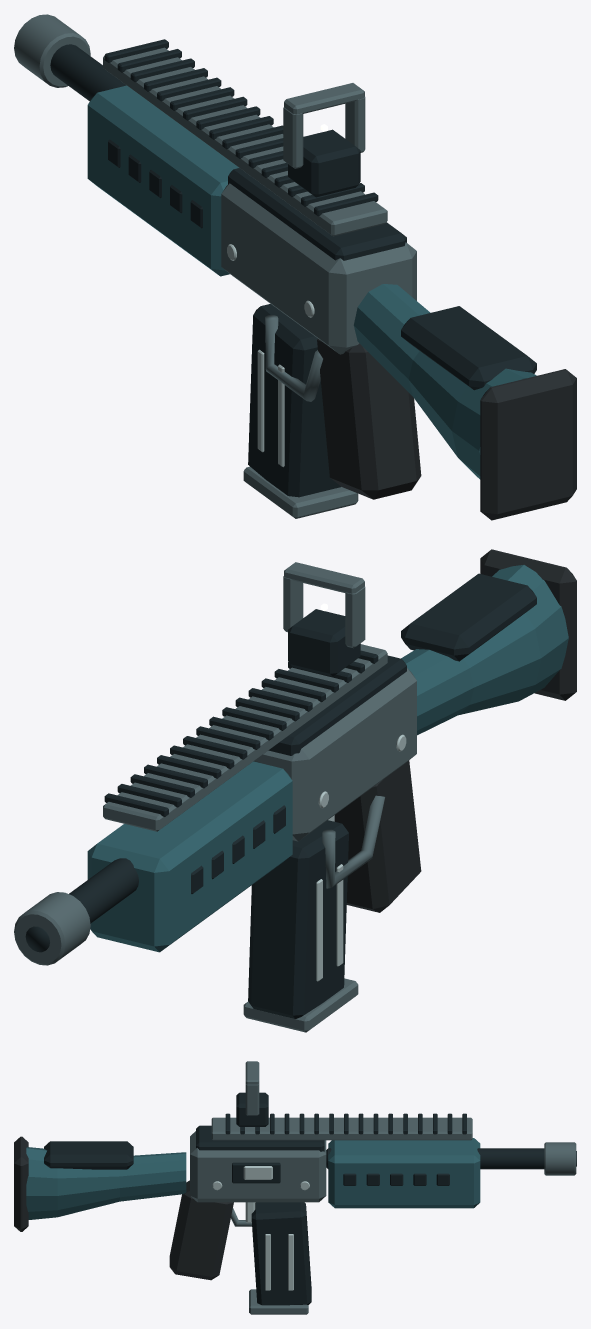
File: ar7-rifle.glb
3 renders of one model, top to bottom at view 1: azimuth 30°, elevation 25°; view 2: azimuth 150°, elevation 25°; view 3: azimuth 270°, elevation 25°, orthographic. The views are drawn at different scales.
Visible parts, largest first — view 1: Vented fore-end, Beveled receiver, Rubber butt pad, Textured pistol grip, Removable magazine, Sculpted shoulder stock, Optics rail, Cheek rest, Upper receiver spine, Reflex pedestal, Muzzle shoulder, Barrel (+7 smaller); view 2: Vented fore-end, Removable magazine, Sculpted shoulder stock, Beveled receiver, Optics rail, Textured pistol grip, Cheek rest, Rubber butt pad, Muzzle shoulder, Reflex pedestal, Upper receiver spine, Barrel (+7 smaller); view 3: Vented fore-end, Sculpted shoulder stock, Beveled receiver, Removable magazine, Optics rail, Textured pistol grip, Cheek rest, Upper receiver spine, Barrel, Rubber butt pad, Muzzle shoulder, Reflex pedestal (+7 smaller).
Part boxes in pixels (left/top/right/bottom): Vented fore-end: left=87, top=85, right=238, bottom=276; Beveled receiver: left=221, top=183, right=416, bottom=354; Rubber butt pad: left=480, top=369, right=576, bottom=520; Textured pistol grip: left=317, top=339, right=421, bottom=499; Removable magazine: left=248, top=304, right=340, bottom=497; Sculpted shoulder stock: left=353, top=284, right=536, bottom=479; Optics rail: left=103, top=47, right=387, bottom=236; Cheek rest: left=401, top=306, right=536, bottom=390; Upper receiver spine: left=228, top=168, right=406, bottom=260; Reflex pedestal: left=288, top=129, right=360, bottom=197; Muzzle shoulder: left=14, top=14, right=90, bottom=87; Barrel: left=50, top=44, right=126, bottom=101; Vented fore-end: left=87, top=761, right=292, bottom=952; Removable magazine: left=248, top=820, right=348, bottom=1018; Sculpted shoulder stock: left=401, top=565, right=568, bottom=735; Beveled receiver: left=254, top=668, right=416, bottom=841; Optics rail: left=103, top=644, right=387, bottom=831; Textured pistol grip: left=334, top=760, right=421, bottom=912; Cheek rest: left=401, top=573, right=536, bottom=661; Rubber butt pad: left=480, top=549, right=576, bottom=700; Muzzle shoulder: left=14, top=892, right=90, bottom=965; Reflex pedestal: left=288, top=609, right=360, bottom=676; Upper receiver spine: left=268, top=655, right=406, bottom=755; Barrel: left=69, top=761, right=259, bottom=923; Vented fore-end: left=328, top=1138, right=480, bottom=1208; Sculpted shoulder stock: left=26, top=1147, right=186, bottom=1219; Beveled receiver: left=190, top=1131, right=326, bottom=1202; Removable magazine: left=251, top=1202, right=311, bottom=1305; Optics rail: left=211, top=1117, right=472, bottom=1140; Textured pistol grip: left=169, top=1180, right=233, bottom=1280; Cheek rest: left=44, top=1141, right=133, bottom=1169; Upper receiver spine: left=196, top=1125, right=324, bottom=1151; Barrel: left=326, top=1148, right=544, bottom=1169; Rubber butt pad: left=14, top=1136, right=28, bottom=1231; Muzzle shoulder: left=544, top=1142, right=576, bottom=1175; Reflex pedestal: left=236, top=1092, right=268, bottom=1126.
Bounding box in the file's own units: 0.1675 × 0.6675 × 1.45.
